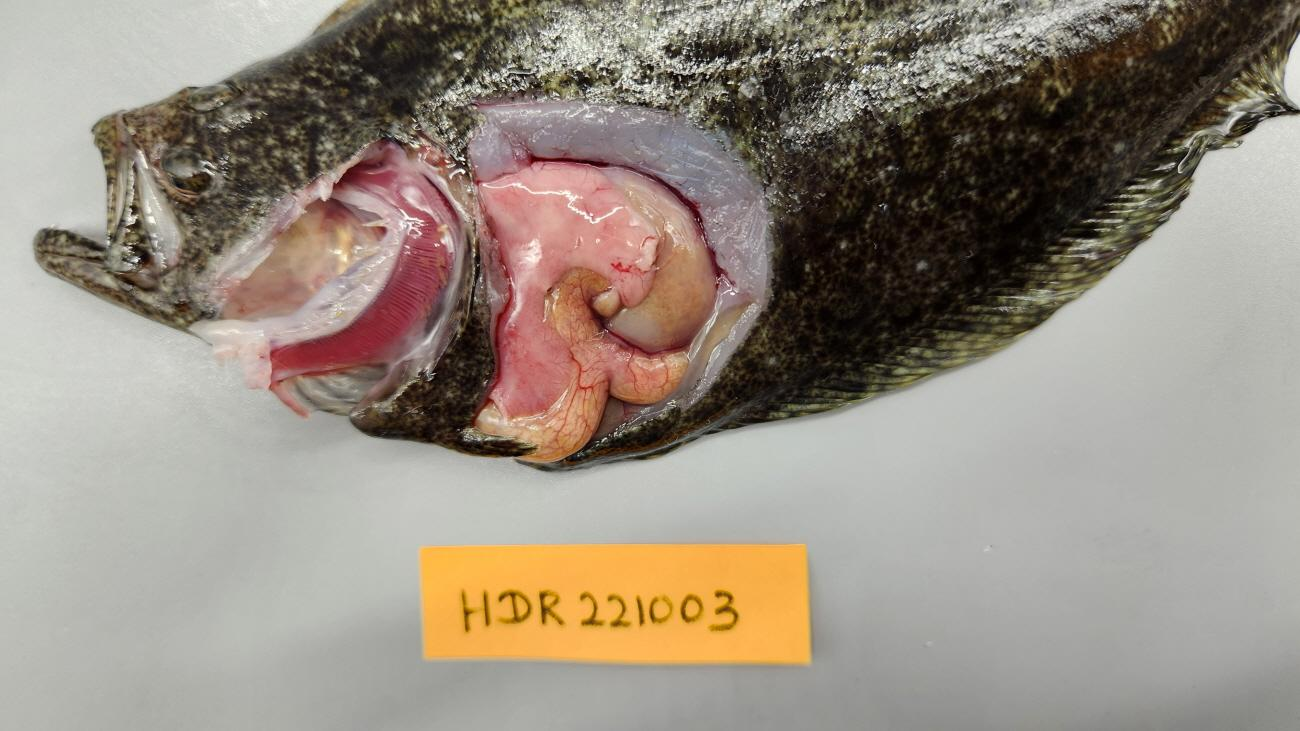POGIN: (263, 153, 463, 378)
POLIN: (466, 158, 669, 411)
